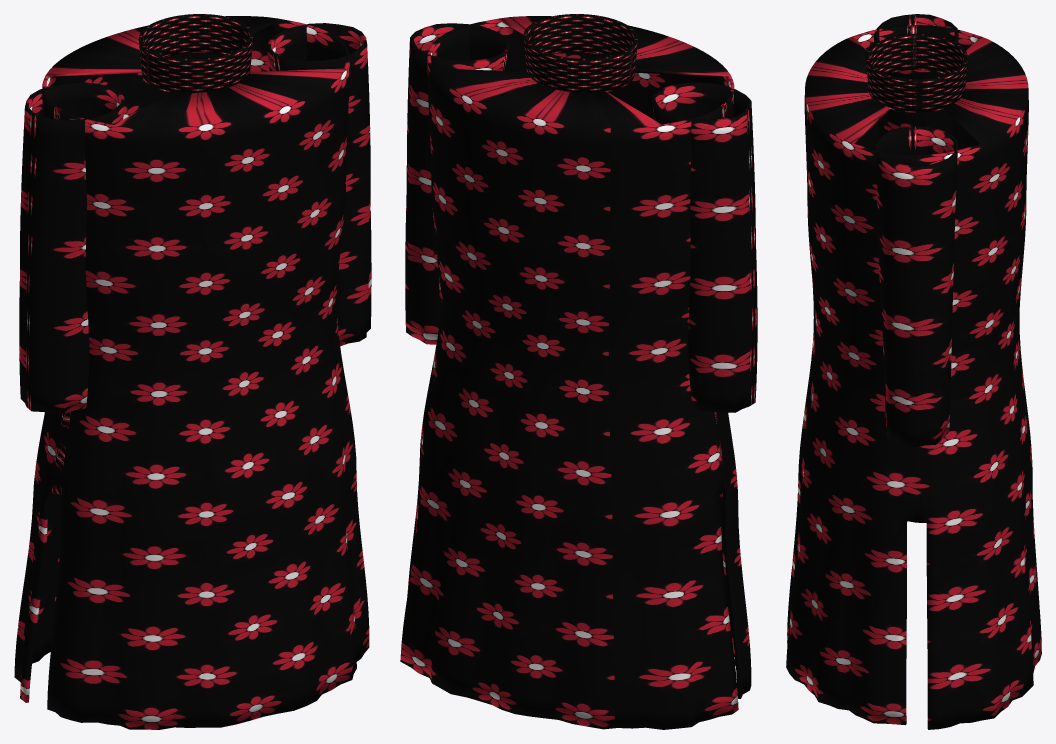
File: kurti_high.glb
3 renders of one model, left to right at view 1: azimuth 30°, elevation 25°; view 2: azimuth 150°, elevation 25°; view 3: azimuth 270°, elevation 25°, orthographic. The views are drawn at different scales.
Parts seen in each view (by area): view 1: KurtiBody_high, Sleeve_L_high, Sleeve_R_high, Collar_high; view 2: KurtiBody_high, Sleeve_L_high, Sleeve_R_high, Collar_high; view 3: KurtiBody_high, Sleeve_R_high, Collar_high, Sleeve_L_high.
Part boxes in pixels (x1,y1,x2,y2): KurtiBody_high: [14, 16, 369, 729]; Sleeve_L_high: [19, 82, 125, 413]; Sleeve_R_high: [267, 23, 371, 346]; Collar_high: [138, 14, 253, 92]; KurtiBody_high: [400, 16, 751, 729]; Sleeve_L_high: [651, 82, 757, 412]; Sleeve_R_high: [405, 23, 509, 344]; Collar_high: [523, 14, 637, 92]; KurtiBody_high: [786, 25, 1041, 729]; Sleeve_R_high: [873, 126, 958, 446]; Collar_high: [865, 34, 967, 112]; Sleeve_L_high: [873, 14, 958, 137].
Bounding box in the file's own units: 0.4608 × 0.8053 × 0.3128.
1 material, 1 textured.
